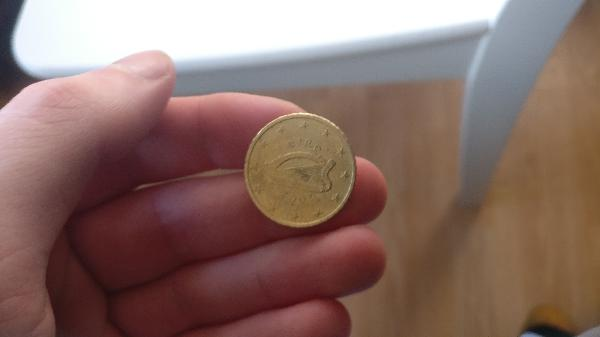Fifty Cent: (243, 114, 357, 230)
